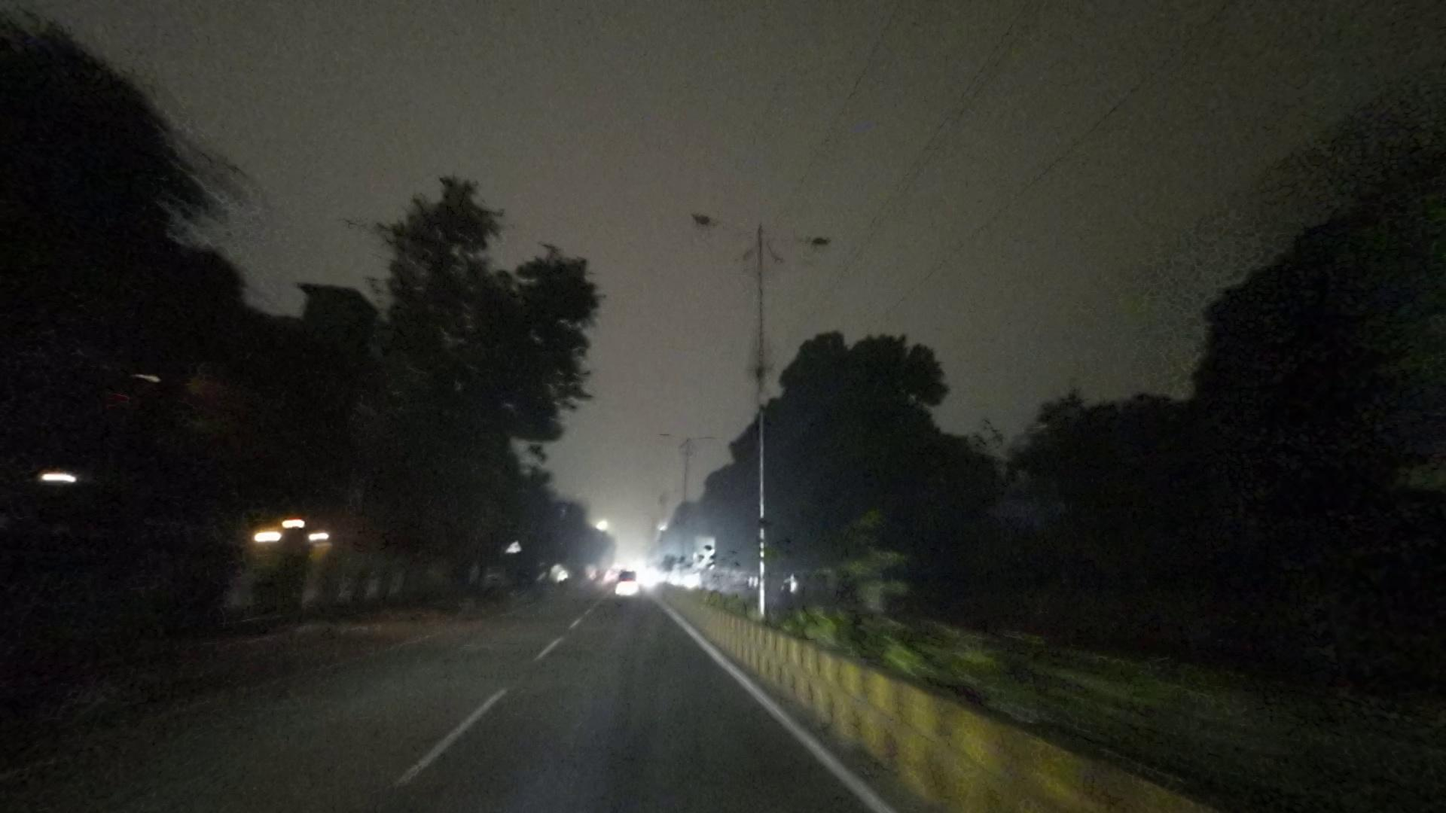streetlight: (686, 209, 758, 240), (769, 229, 834, 251)
